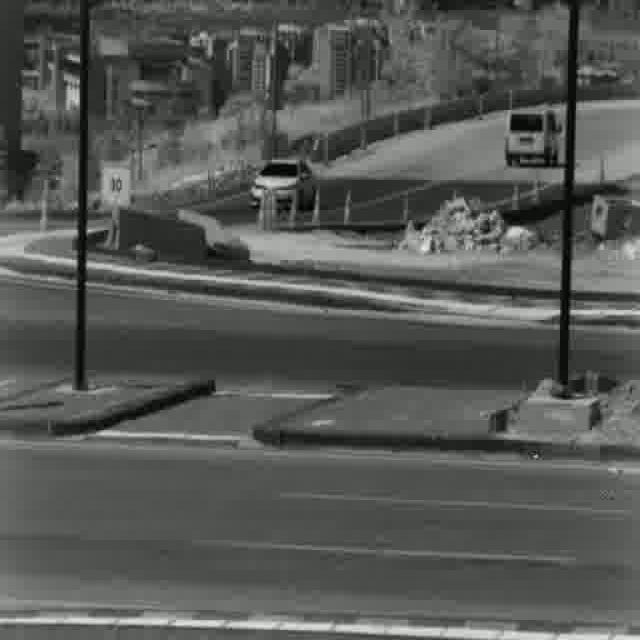Car: (250, 156, 316, 213), (504, 109, 560, 170)
